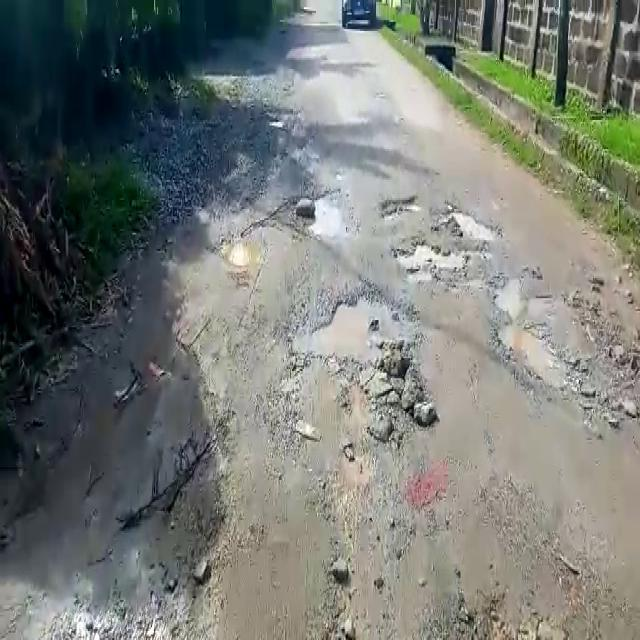pothole: (493, 278, 598, 392), (285, 286, 419, 367), (391, 239, 463, 273), (305, 189, 351, 241), (447, 207, 502, 247), (221, 230, 268, 270)
